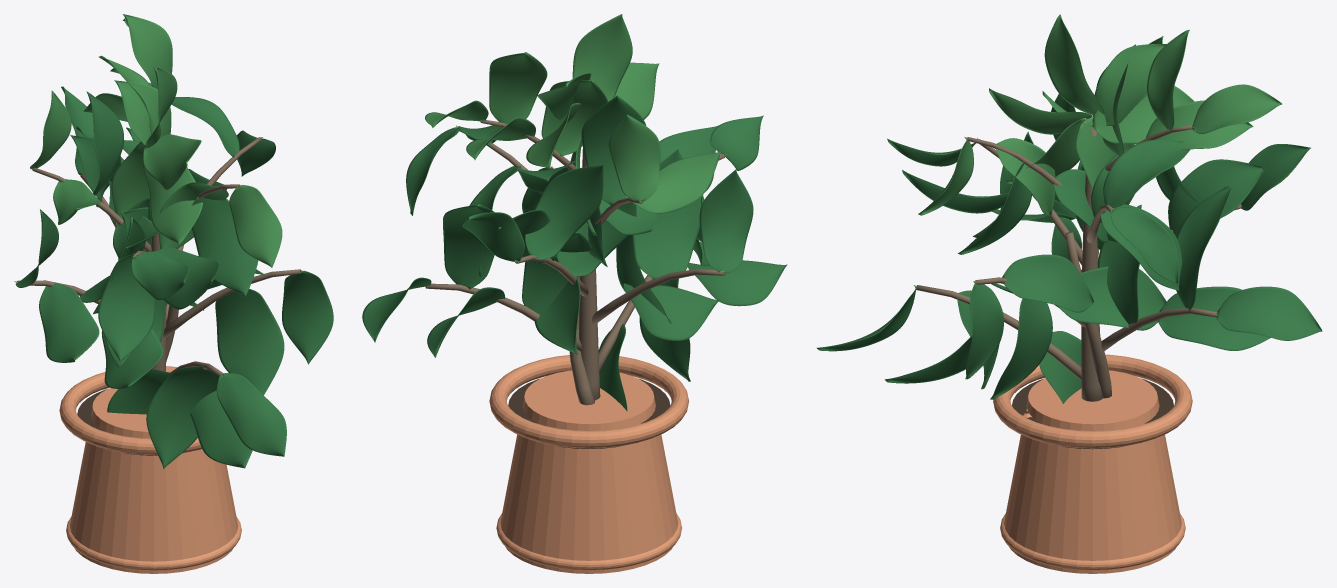
File: conservatory_plant_2.glb
The picture shows the model from 3 angles, left to right: view 1: azimuth 30°, elevation 25°; view 2: azimuth 150°, elevation 25°; view 3: azimuth 270°, elevation 25°; orthographic projection. The views are drawn at different scales.
Visible parts, largest first — view 1: Cone, LeafBlade_505_13, LeafBlade_505_2, LeafBlade_505_22, LeafBlade_505_3, LeafBlade_505_33, LeafBlade_505_10, LeafBlade_505_15, LeafBlade_505_35, Torus.001, LeafBlade_505_1, LeafBlade_505_44 (+29 smaller); view 2: Cone, Torus.001, LeafBlade_505_18, LeafBlade_505_11, LeafBlade_505_9, LeafBlade_505_31, LeafBlade_505_42, LeafBlade_505_38, LeafBlade_505_8, LeafBlade_505_6, LeafBlade_505_30, LeafBlade_505_29 (+33 smaller); view 3: Cone, Torus.001, LeafBlade_505_7, LeafBlade_505_14, LeafBlade_505_17, LeafBlade_505_5, LeafBlade_505_26, LeafBlade_505_41, LeafBlade_505_6, LeafBlade_505_13, LeafBlade_505_42, LeafBlade_505_12 (+30 smaller).
Part boxes in pixels (x1,y1,x2,y2): Cone: (70,388,238,561); LeafBlade_505_13: (215,289,284,395); LeafBlade_505_2: (146,366,219,469); LeafBlade_505_22: (98,253,155,362); LeafBlade_505_3: (216,373,286,456); LeafBlade_505_33: (191,197,258,296); LeafBlade_505_10: (39,283,99,362); LeafBlade_505_15: (282,270,333,364); LeafBlade_505_35: (229,185,282,267); Torus.001: (59,366,201,455); LeafBlade_505_1: (190,390,252,468); LeafBlade_505_44: (143,165,202,245); Cone: (500,370,678,560); Torus.001: (489,355,688,448); LeafBlade_505_18: (525,164,603,259); LeafBlade_505_11: (699,169,753,273); LeafBlade_505_9: (632,149,704,279); LeafBlade_505_31: (608,114,660,201); LeafBlade_505_42: (572,14,632,101); LeafBlade_505_38: (489,52,547,124); LeafBlade_505_8: (623,283,718,340); LeafBlade_505_6: (443,204,494,289); LeafBlade_505_30: (625,151,721,213); LeafBlade_505_29: (581,95,646,205); Cone: (1004,370,1181,560); Torus.001: (993,354,1192,448); LeafBlade_505_7: (1216,286,1322,340); LeafBlade_505_14: (1002,254,1093,312); LeafBlade_505_17: (1168,159,1264,236); LeafBlade_505_5: (1157,286,1270,350); LeafBlade_505_26: (1103,139,1190,207); LeafBlade_505_41: (1094,44,1166,125); LeafBlade_505_6: (1176,184,1234,311); LeafBlade_505_13: (990,298,1052,399); LeafBlade_505_42: (1044,14,1104,115); LeafBlade_505_12: (1057,266,1166,330).
Bounding box in the file's own units: 1.39 × 2.28 × 2.03.
